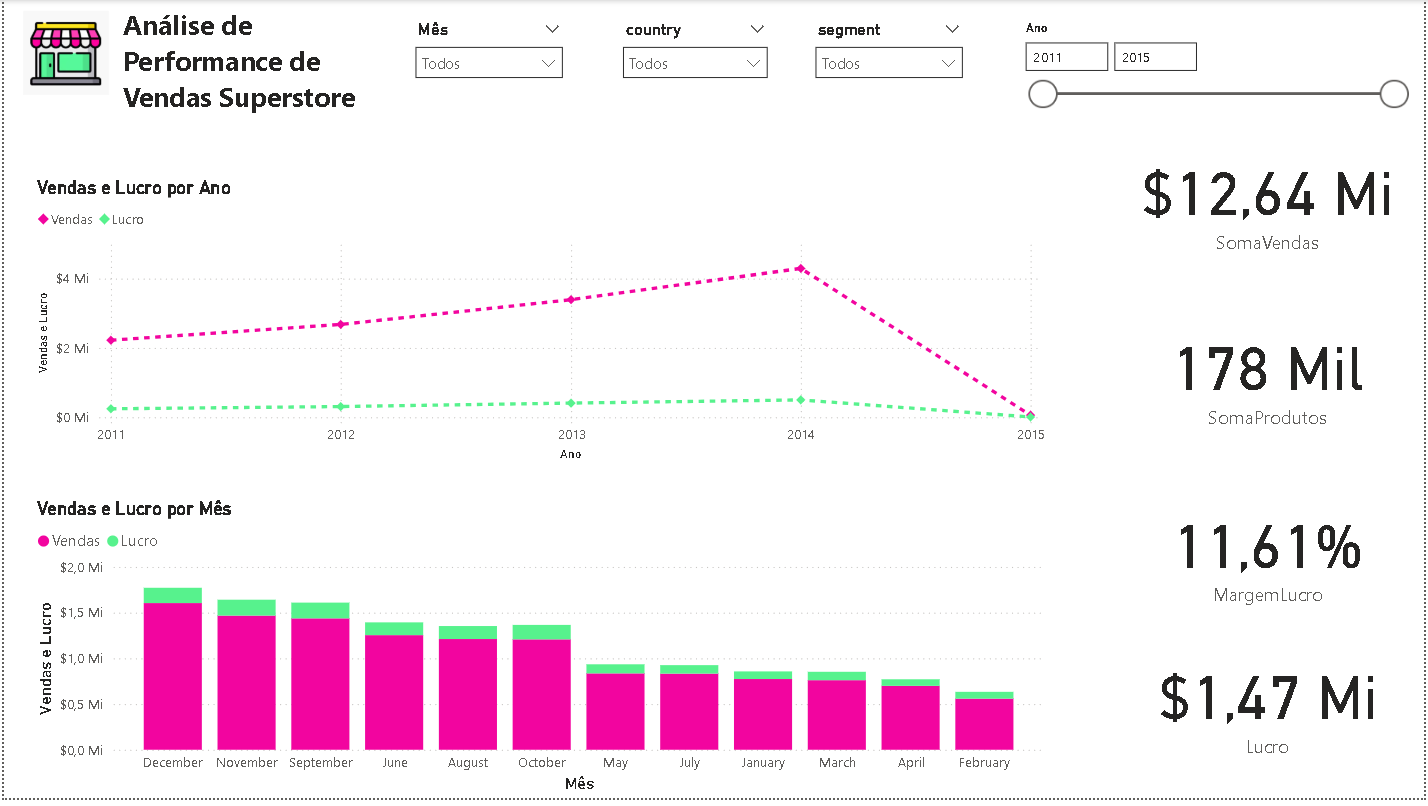

The page's visual inventory and layout, read from the dashboard file:
{"tool":"powerbi","page":{"name":"Resumo Geral","canvas":[1280,720],"ordinal":0},"visuals":[{"type":"card","fields":{"Values":["Medidas.SomaVendas"]},"box":[1000.1,103.2,279.9,151.8],"z":0},{"type":"card","fields":{"Values":["Medidas.MargemLucro"]},"box":[1000.1,410.5,279.9,174.2],"z":1000},{"type":"slicer","fields":{"Values":["dim_tempo.ano"]},"box":[908.1,14,366.3,108.1],"z":2000},{"type":"slicer","fields":{"Values":["dim_tempo.nome_mes"]},"box":[361,13.7,153,108.2],"z":3000},{"type":"slicer","fields":{"Values":["dim_localidade.country"]},"box":[547.6,13.7,150.5,179.1],"z":4000},{"type":"slicer","fields":{"Values":["dim_cliente.segment"]},"box":[721.7,13.7,153,179.1],"z":5000},{"type":"lineChart","fields":{"Y":["Medidas.SomaVendas","Medidas.SomaProfit"],"Category":["dim_tempo.data_completa.Variation.Hierarquia de datas.Ano","dim_tempo.data_completa.Variation.Hierarquia de datas.Mês"]},"box":[24.9,159.2,918,261.2],"z":6000},{"type":"columnChart","fields":{"Y":["Medidas.SomaVendas","Sum(fato_vendas.profit)"],"Category":["dim_tempo.nome_mes"]},"box":[24.9,449.1,918,271.2],"z":7000},{"type":"image","box":[0,0,141.8,90.8],"z":8000},{"type":"textbox","box":[102,0,230.1,150.5],"z":9000},{"type":"card","fields":{"Values":["Medidas.SomaProdutos"]},"box":[1000.1,255,279.9,165.4],"z":10000},{"type":"card","fields":{"Values":["Medidas.SomaProfit"]},"box":[1000.1,546.1,279.9,174.2],"z":11000}]}

Visuals, with their boxes in screenshot pixels (x1, y1, x2, y2), scaled from the page's 1280x720 canvas onto the 1428x806 screenshot:
card - Medidas.SomaVendas: box=[1116, 116, 1427, 285]
card - Medidas.MargemLucro: box=[1116, 460, 1427, 655]
slicer - dim_tempo.ano: box=[1013, 16, 1422, 137]
slicer - dim_tempo.nome_mes: box=[403, 15, 573, 136]
slicer - dim_localidade.country: box=[611, 15, 779, 216]
slicer - dim_cliente.segment: box=[805, 15, 976, 216]
lineChart - Medidas.SomaVendas x Medidas.SomaProfit: box=[28, 178, 1052, 471]
columnChart - Medidas.SomaVendas x Sum(fato_vendas.profit): box=[28, 503, 1052, 805]
image: box=[0, 0, 158, 102]
textbox: box=[114, 0, 370, 168]
card - Medidas.SomaProdutos: box=[1116, 285, 1427, 471]
card - Medidas.SomaProfit: box=[1116, 611, 1427, 805]
